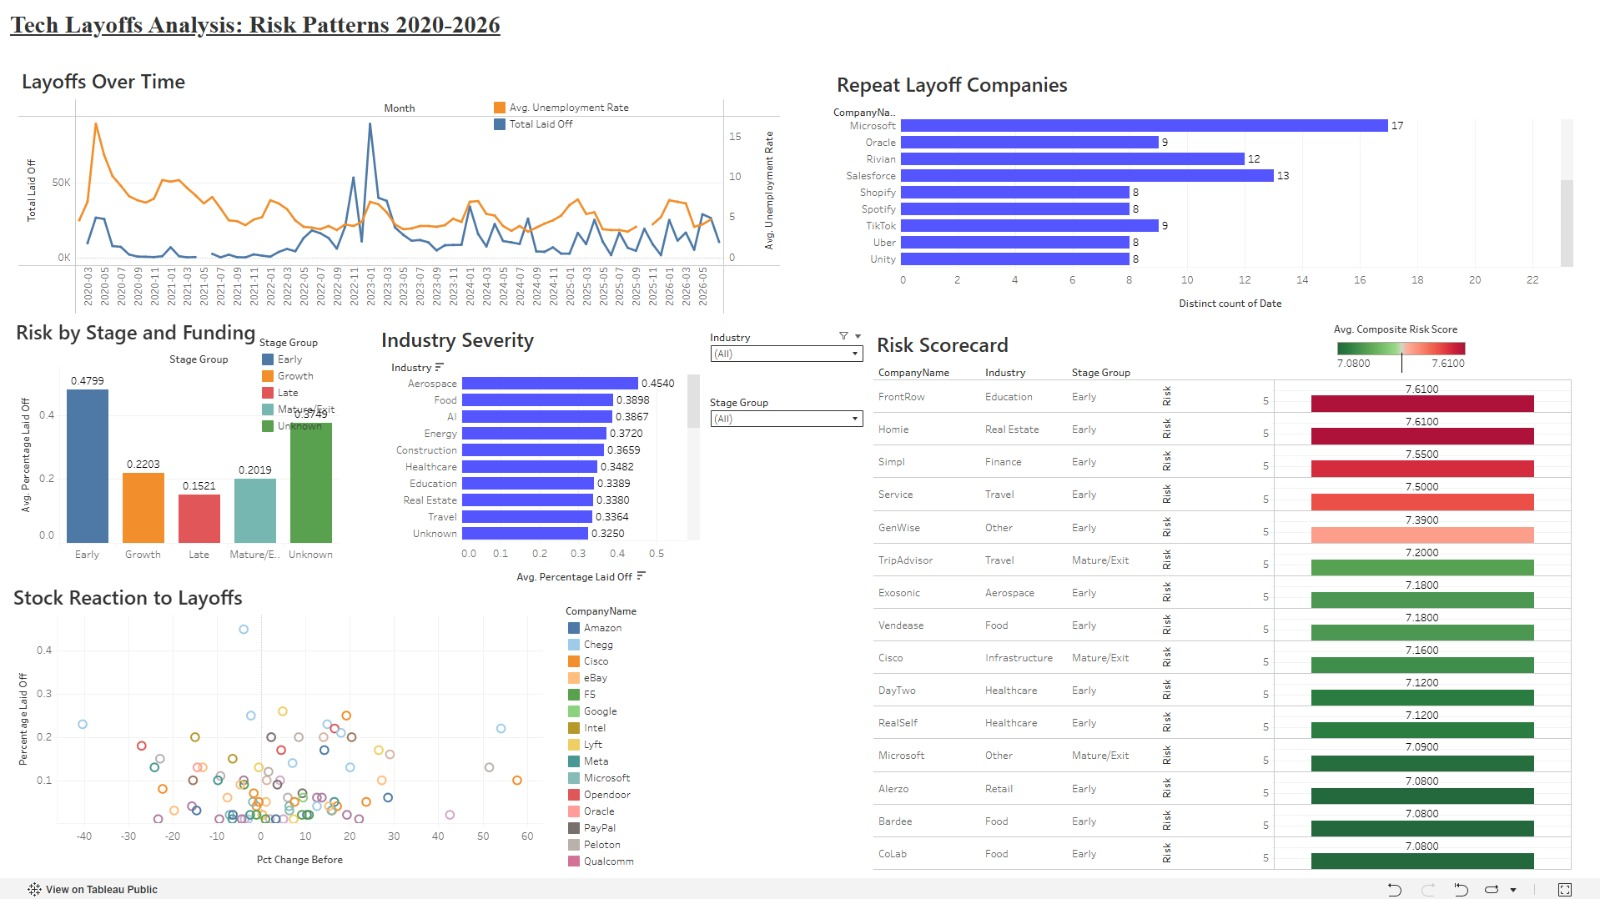

The dashboard page shown, as its layout file describes it:
{"tool":"tableau","page":{"name":"Tech Layoffs Analysis: Risk Patterns 2020-2026","canvas":[1000,1000],"units":"permille","ordinal":0},"visuals":[{"type":"title","box":[4.8,9.4,990.3,58.8]},{"type":"worksheet","title":"Layoffs Over Time","mark":"Line","rows":["total_laid_off","unemployment_rate"],"cols":["month"],"box":[11.5,71.7,476.2,286.7]},{"type":"worksheet","title":"Repeat Layoff Companies","mark":"Automatic","rows":["company (layoffs_export.csv)"],"cols":["date"],"box":[520.2,75.2,463.5,283.2]},{"type":"legend","title":"Layoffs Over Time","param":"[federated.0tt6hrb1rhtt4n1frkb8e1k36hh7].[:Measure Names]","box":[306.6,112.8,132.2,47]},{"type":"worksheet","title":"Risk by Stage and Funding","mark":"Automatic","rows":["percentage_laid_off"],"cols":["stage_group"],"box":[7.9,357.2,203.4,282]},{"type":"worksheet","title":"Industry Severity","mark":"Automatic","rows":["industry"],"cols":["percentage_laid_off"],"box":[236,365.4,202.8,304.4]},{"type":"legend","title":"Risk Scorecard","param":"[federated.0tt6hrb1rhtt4n1frkb8e1k36hh7].[avg:composite_risk_score:qk]","box":[832.8,366.6,84.5,84.6]},{"type":"worksheet","title":"Risk Scorecard","mark":"Automatic","rows":["company (layoffs_export.csv)","industry","stage_group","composite_risk_score"],"box":[545.6,371.3,435.7,619.3]},{"type":"filter","title":"Industry Severity","param":"[federated.0tt6hrb1rhtt4n1frkb8e1k36hh7].[none:industry:nk]","box":[443,374.9,96.6,88.1]},{"type":"legend","title":"Risk by Stage and Funding","param":"[federated.0tt6hrb1rhtt4n1frkb8e1k36hh7].[none:stage_group:nk]","box":[161.7,381.9,73,122.2]},{"type":"filter","title":"Risk by Stage and Funding","param":"[federated.0tt6hrb1rhtt4n1frkb8e1k36hh7].[none:stage_group:nk]","box":[443,448.9,96.6,61.1]},{"type":"worksheet","title":"Stock Reaction to Layoffs","mark":"Automatic","rows":["percentage_laid_off"],"cols":["pct_change_before"],"box":[6,659.2,333.1,332.6]},{"type":"legend","title":"Stock Reaction to Layoffs","param":"[federated.0tt6hrb1rhtt4n1frkb8e1k36hh7].[none:company (layoffs_export.csv):nk]","box":[353.1,687.4,84.5,299.7]}]}

Visuals, with their boxes on the dashboard's canvas, which has no fixed pixel size, in thousandths of its width and height (x1, y1, x2, y2). These are canvas units, not pixel positions in the 1600x899 screenshot, which may show the page scaled, cropped or inside an application window:
title: <bbox>5, 9, 995, 68</bbox>
"Layoffs Over Time" worksheet (Line marks): <bbox>12, 72, 488, 358</bbox>
"Repeat Layoff Companies" worksheet: <bbox>520, 75, 984, 358</bbox>
"Layoffs Over Time" legend: <bbox>307, 113, 439, 160</bbox>
"Risk by Stage and Funding" worksheet: <bbox>8, 357, 211, 639</bbox>
"Industry Severity" worksheet: <bbox>236, 365, 439, 670</bbox>
"Risk Scorecard" legend: <bbox>833, 367, 917, 451</bbox>
"Risk Scorecard" worksheet: <bbox>546, 371, 981, 991</bbox>
"Industry Severity" filter: <bbox>443, 375, 540, 463</bbox>
"Risk by Stage and Funding" legend: <bbox>162, 382, 235, 504</bbox>
"Risk by Stage and Funding" filter: <bbox>443, 449, 540, 510</bbox>
"Stock Reaction to Layoffs" worksheet: <bbox>6, 659, 339, 992</bbox>
"Stock Reaction to Layoffs" legend: <bbox>353, 687, 438, 987</bbox>
